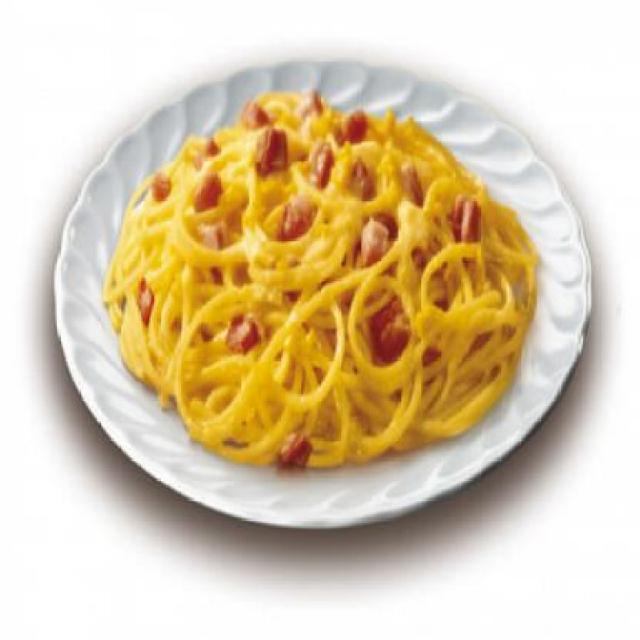Pasta with carbonara sauce: (67, 72, 585, 486)
